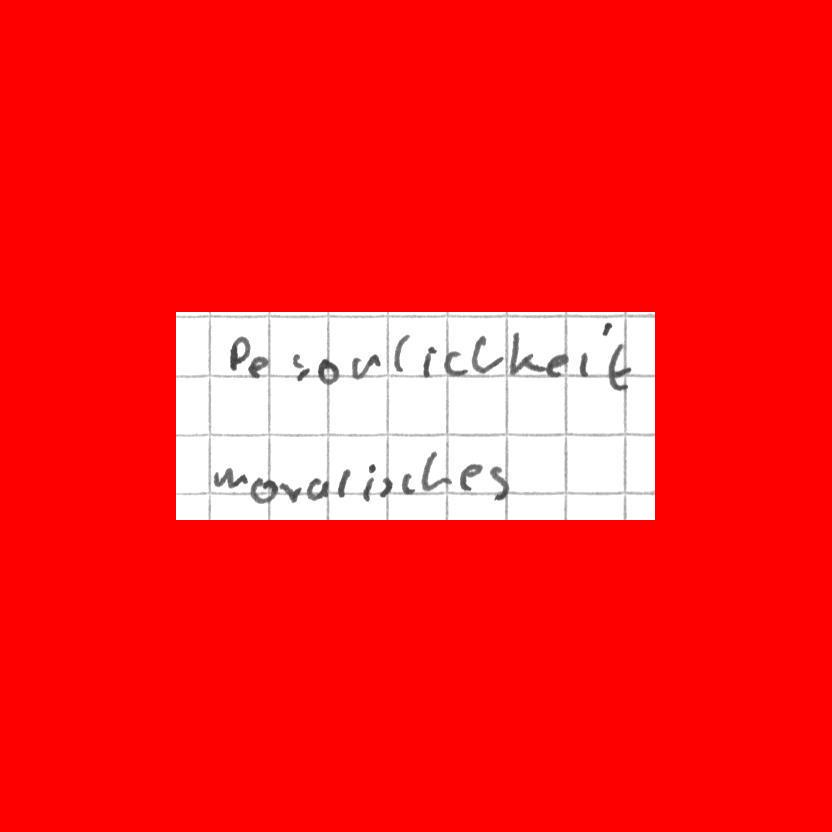Char: (604, 328, 635, 394), (577, 320, 612, 378), (507, 327, 540, 378), (420, 449, 452, 495), (471, 332, 503, 377), (212, 464, 248, 491), (349, 351, 380, 380), (391, 330, 410, 376), (227, 333, 248, 374), (487, 464, 509, 501), (249, 474, 277, 503), (359, 461, 378, 502), (459, 461, 483, 492), (443, 348, 467, 378), (544, 351, 570, 377), (305, 474, 329, 502), (289, 350, 310, 382), (318, 357, 340, 385), (420, 342, 437, 377), (278, 479, 301, 504), (335, 467, 353, 498), (400, 472, 418, 496), (249, 357, 269, 378), (379, 476, 394, 497)
